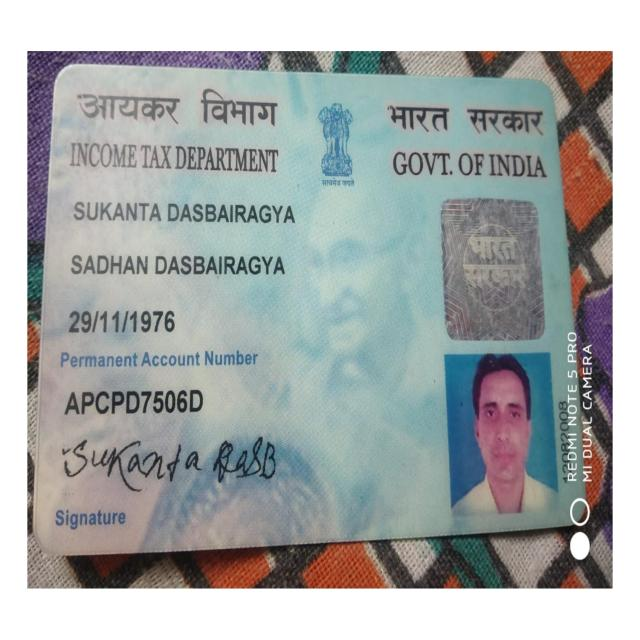pan_card: (44, 73, 580, 547)
